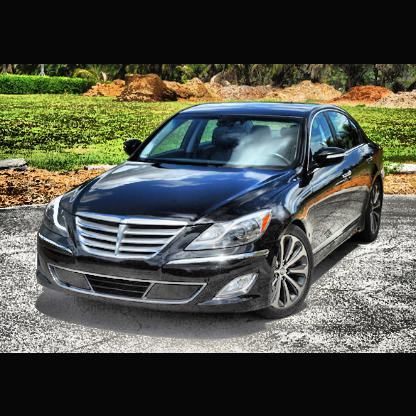Hyundai Genesis Sedan 2012: (37, 101, 385, 322)
